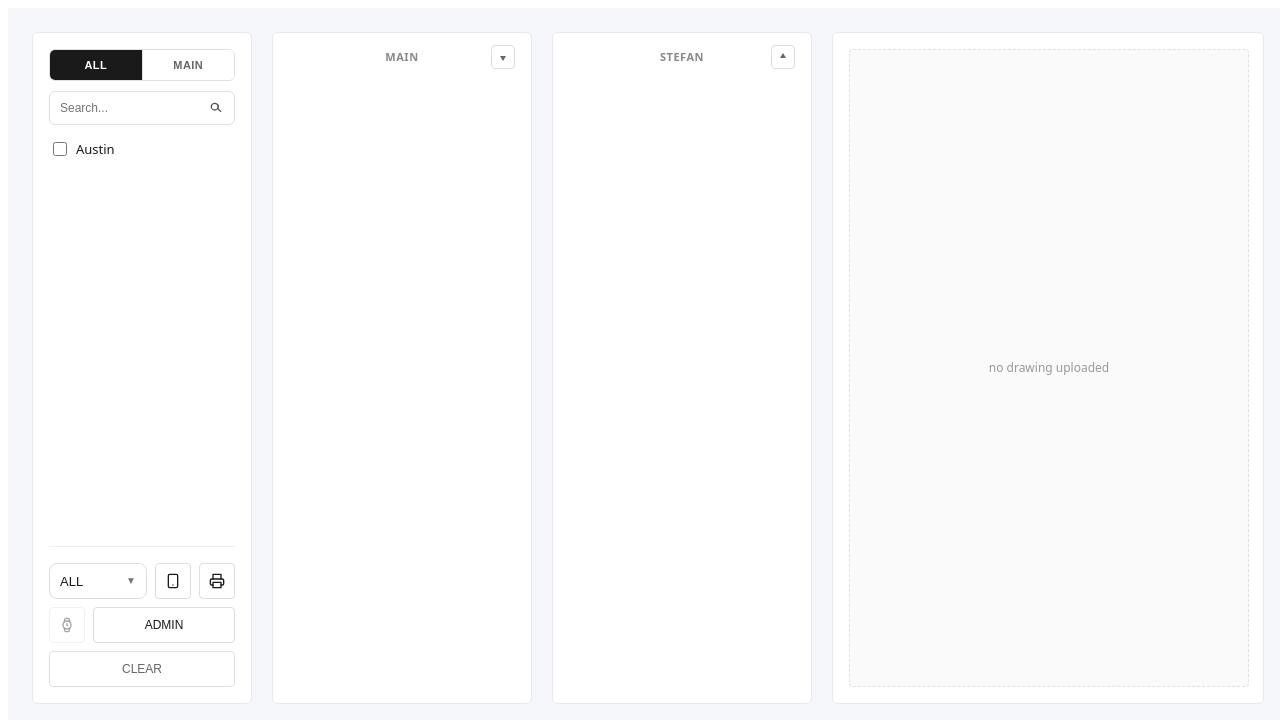
Test: App auth/session integration (Phase 2C) › shows the login form when an unauthenticated user opens admin
Click the button "ADMIN" at coordinates (164, 625), box [93,607,235,643]
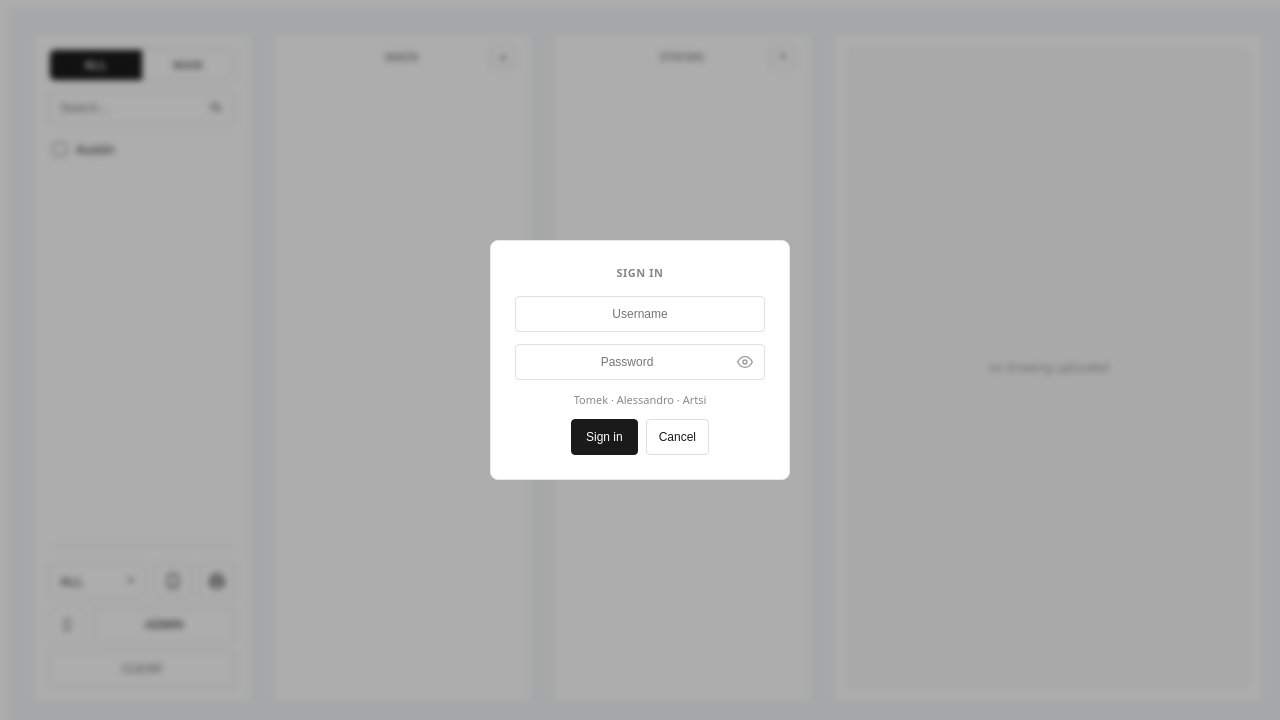
Check: the field with placeholder "Username" is shown, box [515,296,765,332]
Check: the password field with placeholder "Password" is shown, box [515,344,765,380]
